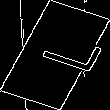L_NW: (17, 31, 93, 79)
